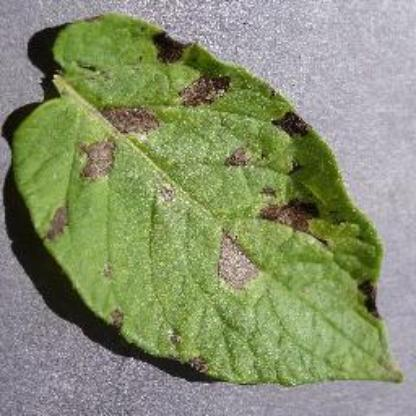Early-Blight: (8, 13, 406, 387)
